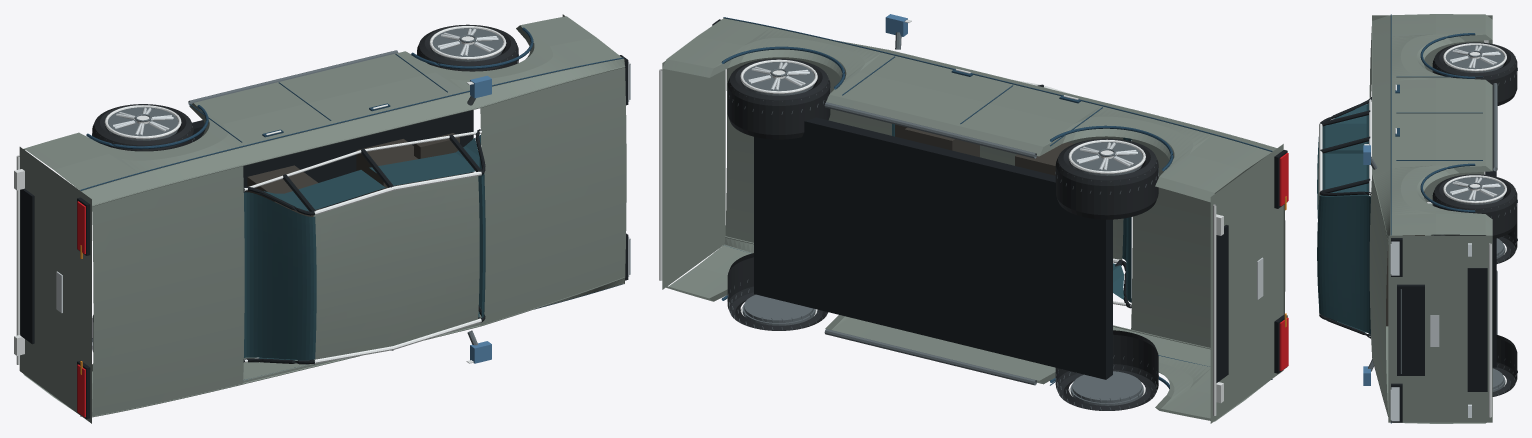
Rendered from Atlas_SUV.glb.
3 renders of one model, left to right at view 1: azimuth 30°, elevation 25°; view 2: azimuth 150°, elevation 25°; view 3: azimuth 270°, elevation 25°, orthographic. The views are drawn at different scales.
Parts seen in each view (by area): view 1: rear_deck_crowned, left_sculpted_fenders_and_doors, bonnet_crowned, continuous_curved_roof, rear_painted_fascia, rear_windshield, underbody, rear_lower_air_intake, left_side_window_1, left_side_window_0, rear_left_wheel_rounded_tire, front_left_wheel_rounded_tire (+17 smaller); view 2: underbody, left_sculpted_fenders_and_doors, rear_painted_fascia, front_painted_fascia, rear_deck_crowned, right_sculpted_fenders_and_doors, rear_left_wheel_rounded_tire, front_left_wheel_rounded_tire, bonnet_crowned, rear_right_wheel_rounded_tire, front_right_wheel_rounded_tire, rear_lower_air_intake (+16 smaller); view 3: left_sculpted_fenders_and_doors, front_painted_fascia, front_windshield, bonnet_crowned, front_lower_air_intake, front_main_grille, front_left_wheel_rounded_tire, rear_left_wheel_rounded_tire, left_side_window_1, left_side_window_0, front_right_wheel_rounded_tire, rear_left_wheel_wheel_barrel (+26 smaller).
Boxes of the visible parts, <box> form: rear_deck_crowned: <box>92,166,244,416</box>; left_sculpted_fenders_and_doors: <box>23,16,624,205</box>; bonnet_crowned: <box>480,67,626,326</box>; continuous_curved_roof: <box>313,176,479,360</box>; rear_painted_fascia: <box>19,147,91,423</box>; rear_windshield: <box>244,192,316,359</box>; underbody: <box>176,110,473,208</box>; rear_lower_air_intake: <box>20,188,34,344</box>; left_side_window_1: <box>369,138,479,185</box>; left_side_window_0: <box>264,170,385,211</box>; rear_left_wheel_rounded_tire: <box>92,104,193,151</box>; front_left_wheel_rounded_tire: <box>417,24,518,71</box>; underbody: <box>754,117,1112,379</box>; left_sculpted_fenders_and_doors: <box>662,18,1276,202</box>; rear_painted_fascia: <box>1210,144,1283,423</box>; front_painted_fascia: <box>662,61,725,289</box>; rear_deck_crowned: <box>1131,139,1285,347</box>; right_sculpted_fenders_and_doors: <box>663,237,1268,421</box>; rear_left_wheel_rounded_tire: <box>1055,138,1158,219</box>; front_left_wheel_rounded_tire: <box>727,58,830,139</box>; bonnet_crowned: <box>725,41,891,242</box>; rear_right_wheel_rounded_tire: <box>1055,330,1158,410</box>; front_right_wheel_rounded_tire: <box>727,253,827,330</box>; rear_lower_air_intake: <box>1216,225,1228,383</box>; left_sculpted_fenders_and_doors: <box>1373,14,1492,239</box>; front_painted_fascia: <box>1388,235,1492,422</box>; front_windshield: <box>1317,196,1370,334</box>; bonnet_crowned: <box>1369,176,1388,415</box>; front_lower_air_intake: <box>1467,268,1487,391</box>; front_main_grille: <box>1397,284,1424,375</box>; front_left_wheel_rounded_tire: <box>1432,174,1517,239</box>; rear_left_wheel_rounded_tire: <box>1432,42,1517,105</box>; left_side_window_1: <box>1325,153,1366,192</box>; left_side_window_0: <box>1325,104,1366,150</box>; front_right_wheel_rounded_tire: <box>1492,335,1517,396</box>; rear_left_wheel_wheel_barrel: <box>1445,45,1504,72</box>.
Size of the model in its own units: 4.97 by 2.39 by 1.86.
